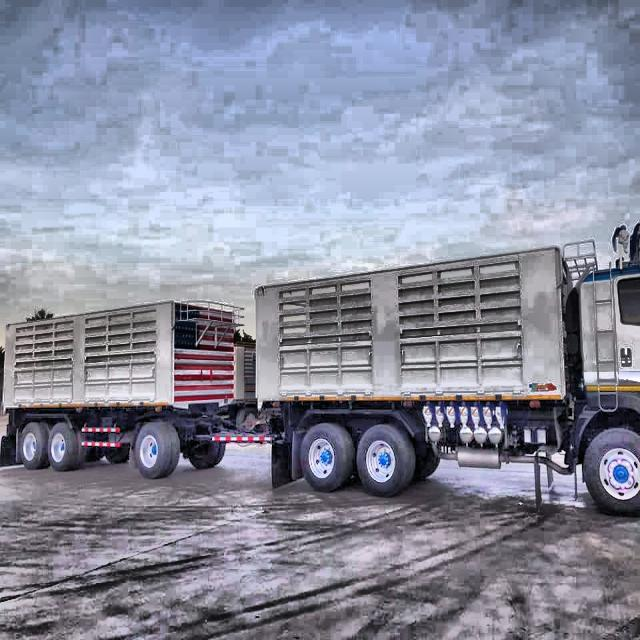trailer: (2, 222, 640, 522)
